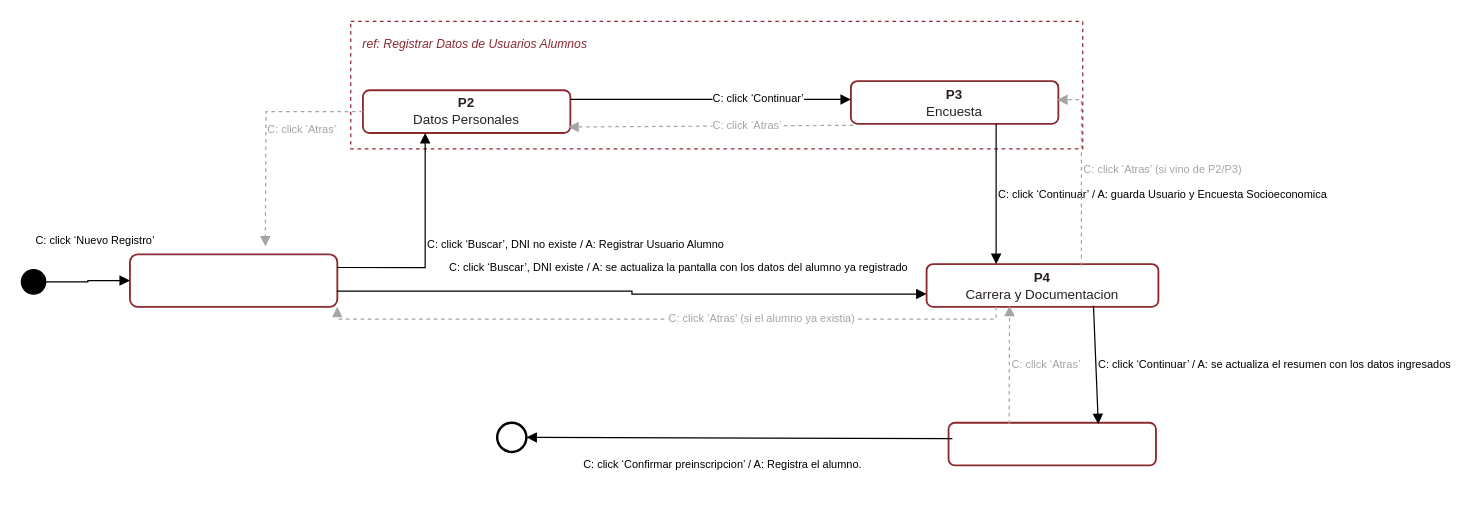
Image size: 1473x506. Some labels were removed from this diagram. Each missing label, with the centre of its shape:
P1 Buscar Alumno: the point at 233,280
P5 Confirmar: the point at 1051,443
